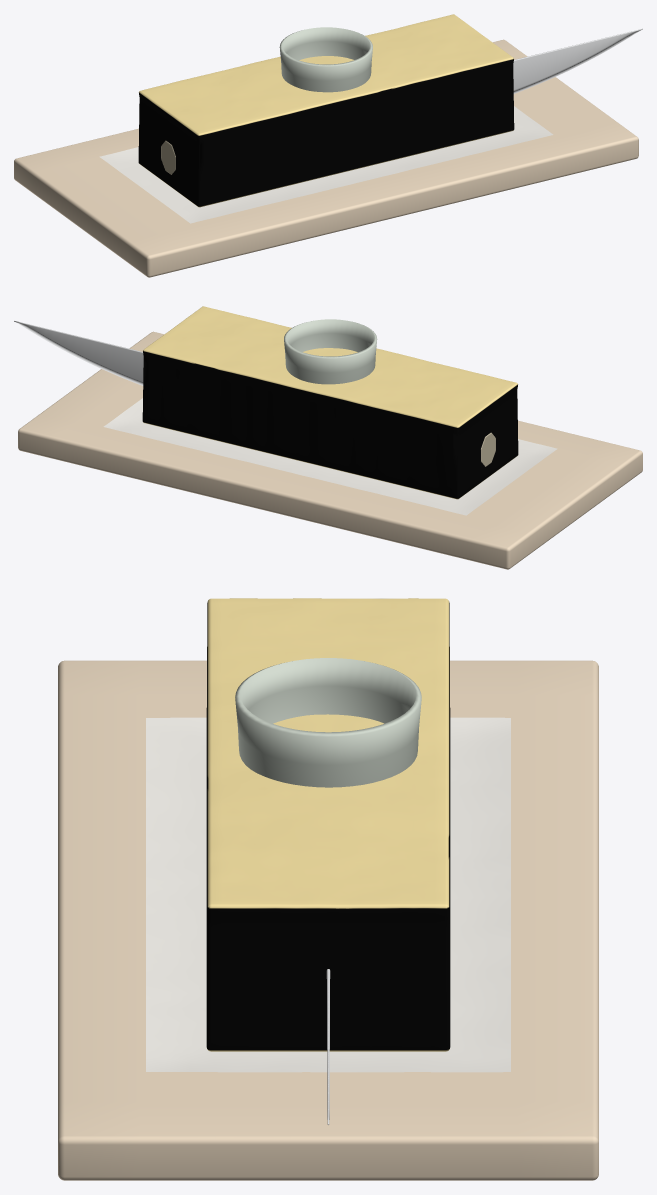
3 renders of one model, top to bottom at view 1: azimuth 30°, elevation 25°; view 2: azimuth 150°, elevation 25°; view 3: azimuth 270°, elevation 25°, orthographic. The views are drawn at different scales.
Visible parts, largest first — view 1: castella, board, washi, yunomi, knife_blade, knife_handle; view 2: castella, board, washi, yunomi, knife_blade, knife_handle; view 3: board, castella, washi, yunomi.
Part boxes in pixels (left/top/right/bottom): castella: left=138, top=14, right=514, bottom=207; board: left=14, top=39, right=638, bottom=277; washi: left=99, top=106, right=553, bottom=223; yunomi: left=279, top=27, right=372, bottom=92; knife_blade: left=513, top=28, right=642, bottom=93; knife_handle: left=161, top=140, right=175, bottom=174; castella: left=142, top=306, right=518, bottom=499; board: left=18, top=331, right=642, bottom=569; washi: left=103, top=398, right=557, bottom=515; yunomi: left=284, top=319, right=377, bottom=384; knife_blade: left=14, top=321, right=143, bottom=385; knife_handle: left=481, top=432, right=495, bottom=466; board: left=58, top=660, right=598, bottom=1180; castella: left=206, top=598, right=450, bottom=1051; washi: left=146, top=717, right=510, bottom=1072; yunomi: left=235, top=658, right=421, bottom=787.
Bounding box in the file's own units: 0.48 × 0.101 × 0.2.
